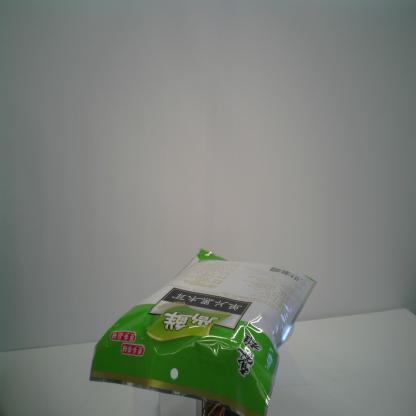Dried Food: (88, 246, 320, 416)
